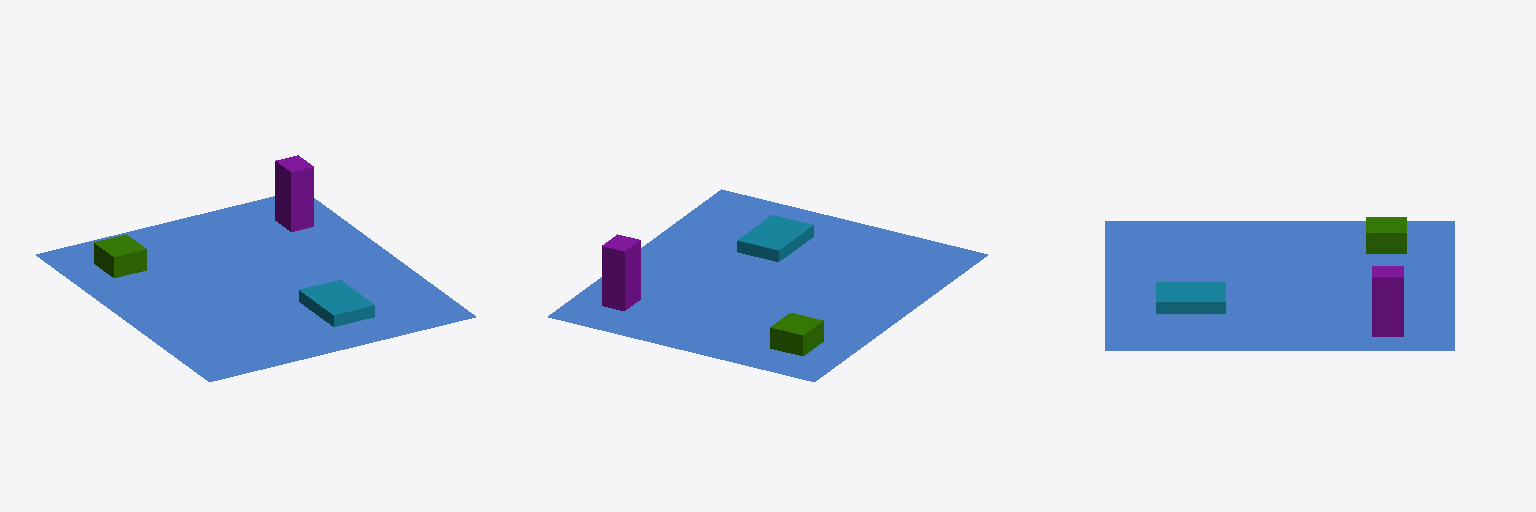
File: testScene.obj
The picture shows the model from 3 angles: view 1: azimuth 30°, elevation 25°; view 2: azimuth 150°, elevation 25°; view 3: azimuth 270°, elevation 25°; orthographic projection.
Parts seen in each view (by area): view 1: Plane001, Box002, Box003, Box001; view 2: Plane001, Box002, Box003, Box001; view 3: Plane001, Box002, Box003, Box001.
Part boxes in pixels (bbox=[...]): Plane001: bbox=[36, 196, 475, 381]; Box002: bbox=[275, 155, 313, 231]; Box003: bbox=[299, 280, 374, 326]; Box001: bbox=[94, 234, 146, 277]; Plane001: bbox=[548, 189, 987, 381]; Box002: bbox=[602, 234, 640, 310]; Box003: bbox=[737, 215, 813, 261]; Box001: bbox=[770, 313, 823, 355]; Plane001: bbox=[1105, 221, 1454, 350]; Box002: bbox=[1372, 266, 1403, 336]; Box003: bbox=[1156, 282, 1225, 313]; Box001: bbox=[1366, 217, 1406, 253].
Size of the model in its own units: 104 by 22.13 by 117.